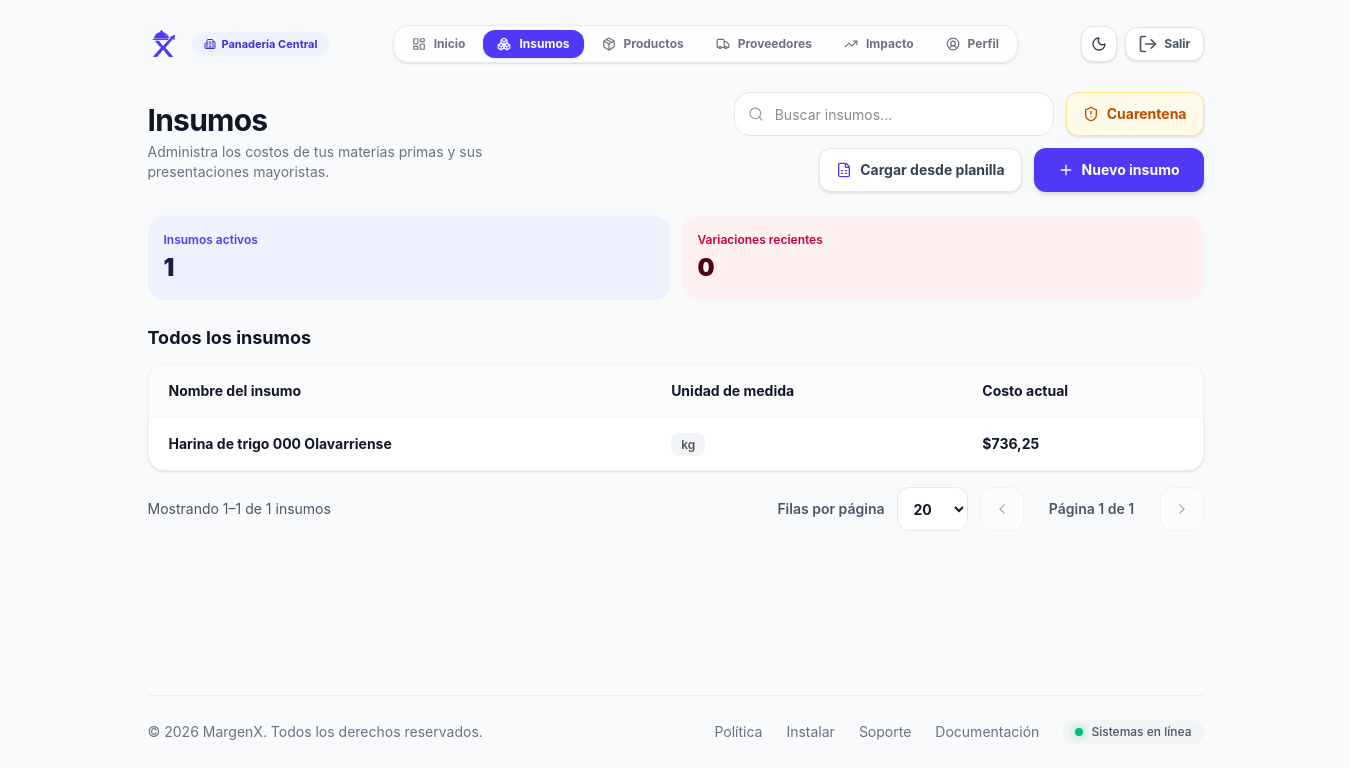
Test: SuppliesPageContent - acceso a la carga desde planilla (#252) › la detección de duplicados recibe el catálogo completo, no solo la página visible (#350)
The width and height of the screenshot is (1366, 768).
Click the button "Cargar desde planilla" at (920,170), box [819,148,1022,192]
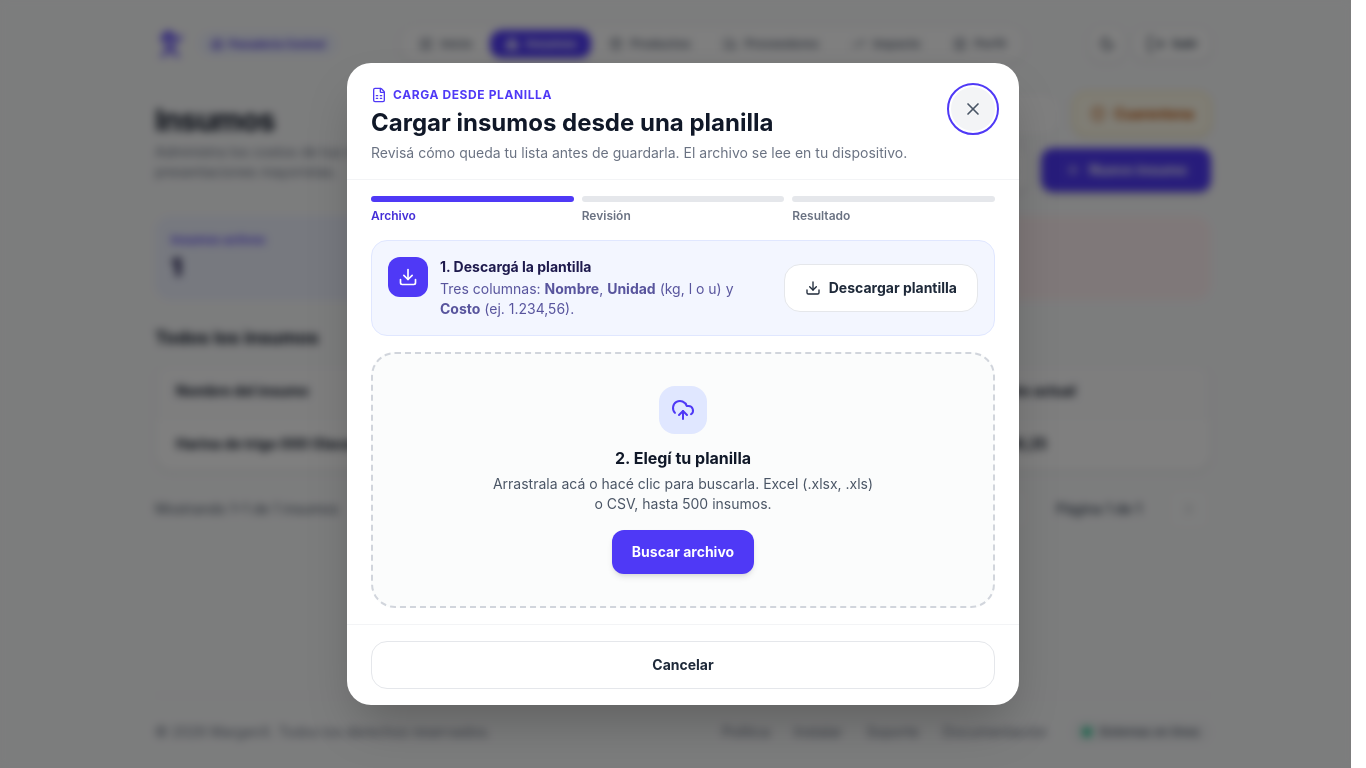
Result: the dialog "Cargar insumos desde una planilla" is shown at [347,63,1019,705]
